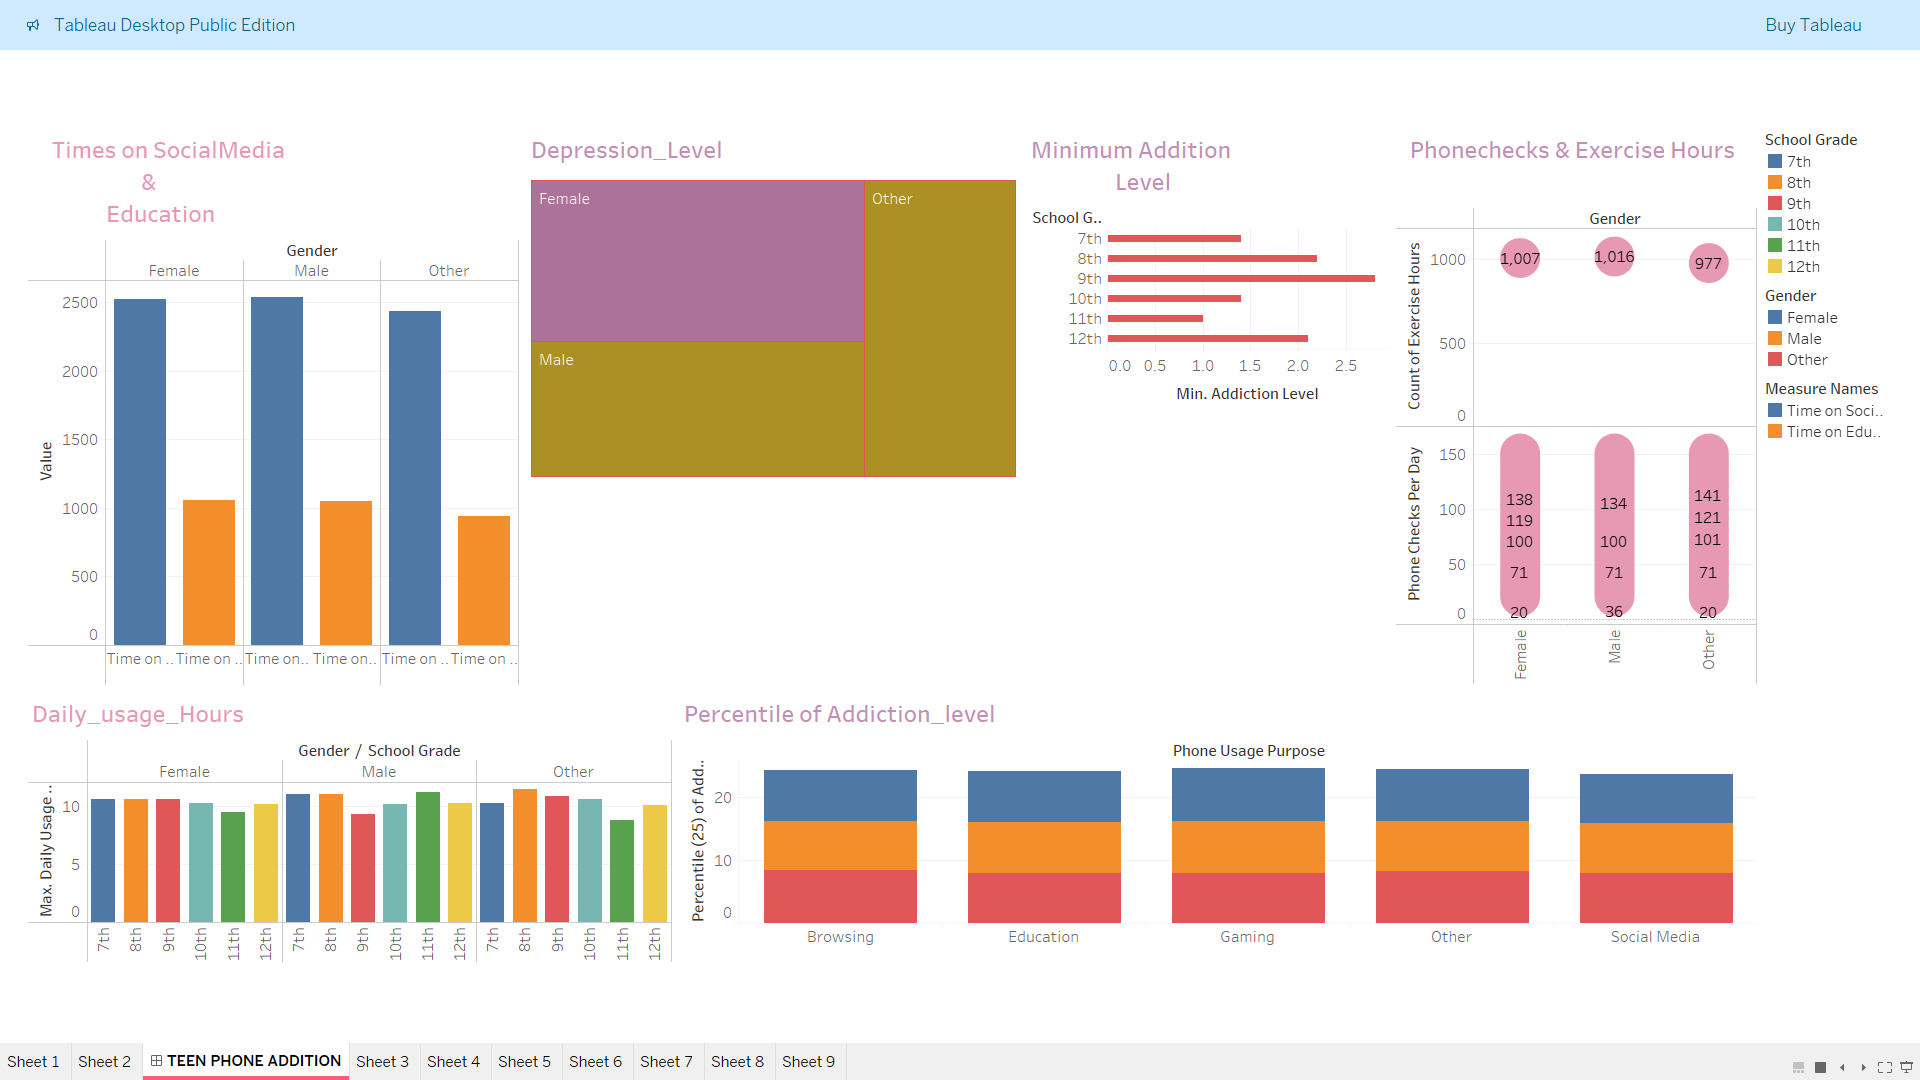

This screenshot's page, from the dashboard's own definition file:
{"tool":"tableau","page":{"name":"TEEN PHONE ADDITION","canvas":[1000,1000],"units":"permille","ordinal":0},"visuals":[{"type":"worksheet","title":"Sheet 8","mark":"Automatic","cols":["Gender"],"box":[12.3,10,257,656.7]},{"type":"worksheet","title":"Sheet 9","mark":"Automatic","cols":["Gender"],"box":[269.3,10,257,656.7]},{"type":"worksheet","title":"Sheet 3","mark":"Automatic","rows":["School_Grade"],"cols":["Addiction_Level"],"box":[526.3,10,379.9,656.7]},{"type":"legend","title":"Sheet 1","param":"[federated.1cp3toa0hdms721ambmmy0w8sk70].[none:School_Grade:nk]","box":[906.2,10,81.5,194.8]},{"type":"legend","title":"Sheet 5","param":"[federated.1cp3toa0hdms721ambmmy0w8sk70].[none:Gender:nk]","box":[906.2,204.7,81.5,116.1]},{"type":"legend","title":"Sheet 8","param":"[federated.1cp3toa0hdms721ambmmy0w8sk70].[:Measure Names]","box":[906.2,320.9,81.5,89.9]},{"type":"worksheet","title":"Sheet 1","mark":"Automatic","rows":["Daily_Usage_Hours"],"cols":["Gender","School_Grade"],"box":[12.3,666.7,335.5,323.4]},{"type":"worksheet","title":"Sheet 5","mark":"Automatic","rows":["Addiction_Level"],"cols":["Phone_Usage_Purpose"],"box":[347.8,666.7,558.4,323.4]}]}

Visuals, with their boxes on the dashboard's canvas, which has no fixed pixel size, in thousandths of its width and height (x1, y1, x2, y2). These are canvas units, not pixel positions in the 1920x1080 screenshot, which may show the page scaled, cropped or inside an application window:
"Sheet 8" worksheet: 12,10,269,667
"Sheet 9" worksheet: 269,10,526,667
"Sheet 3" worksheet: 526,10,906,667
"Sheet 1" legend: 906,10,988,205
"Sheet 5" legend: 906,205,988,321
"Sheet 8" legend: 906,321,988,411
"Sheet 1" worksheet: 12,667,348,990
"Sheet 5" worksheet: 348,667,906,990
